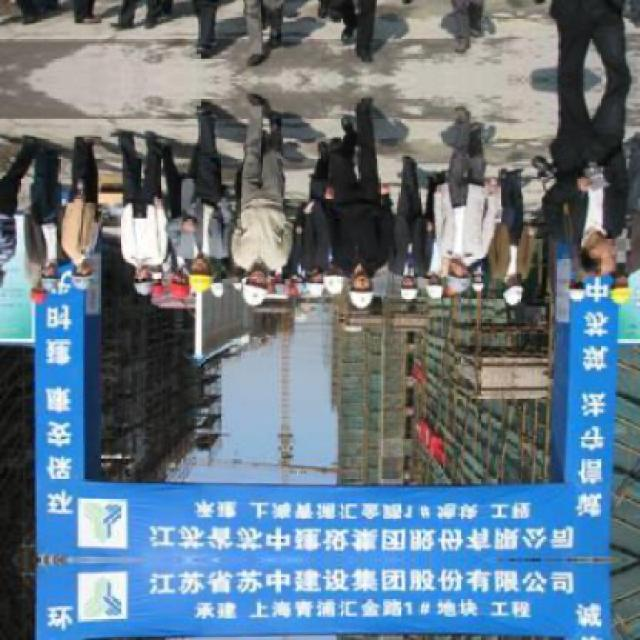con casco: (335, 276, 393, 320), (158, 270, 207, 305), (228, 280, 270, 316), (128, 269, 170, 297), (52, 265, 96, 289), (393, 277, 431, 301)
